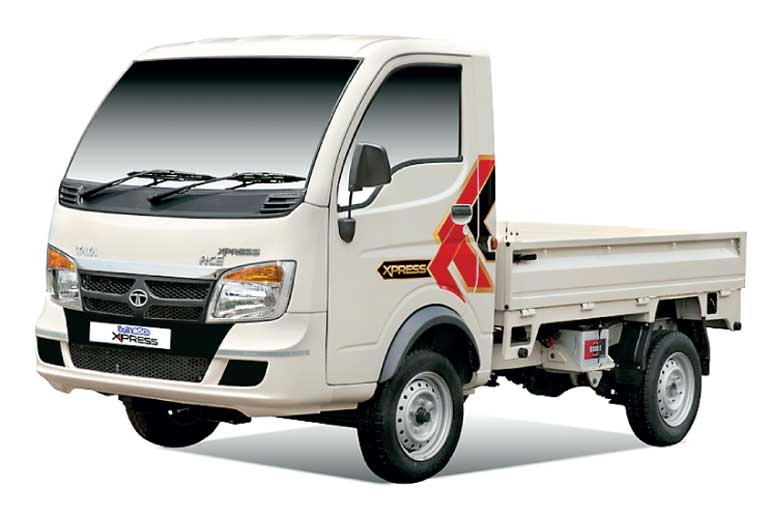truck: (33, 33, 749, 484)
